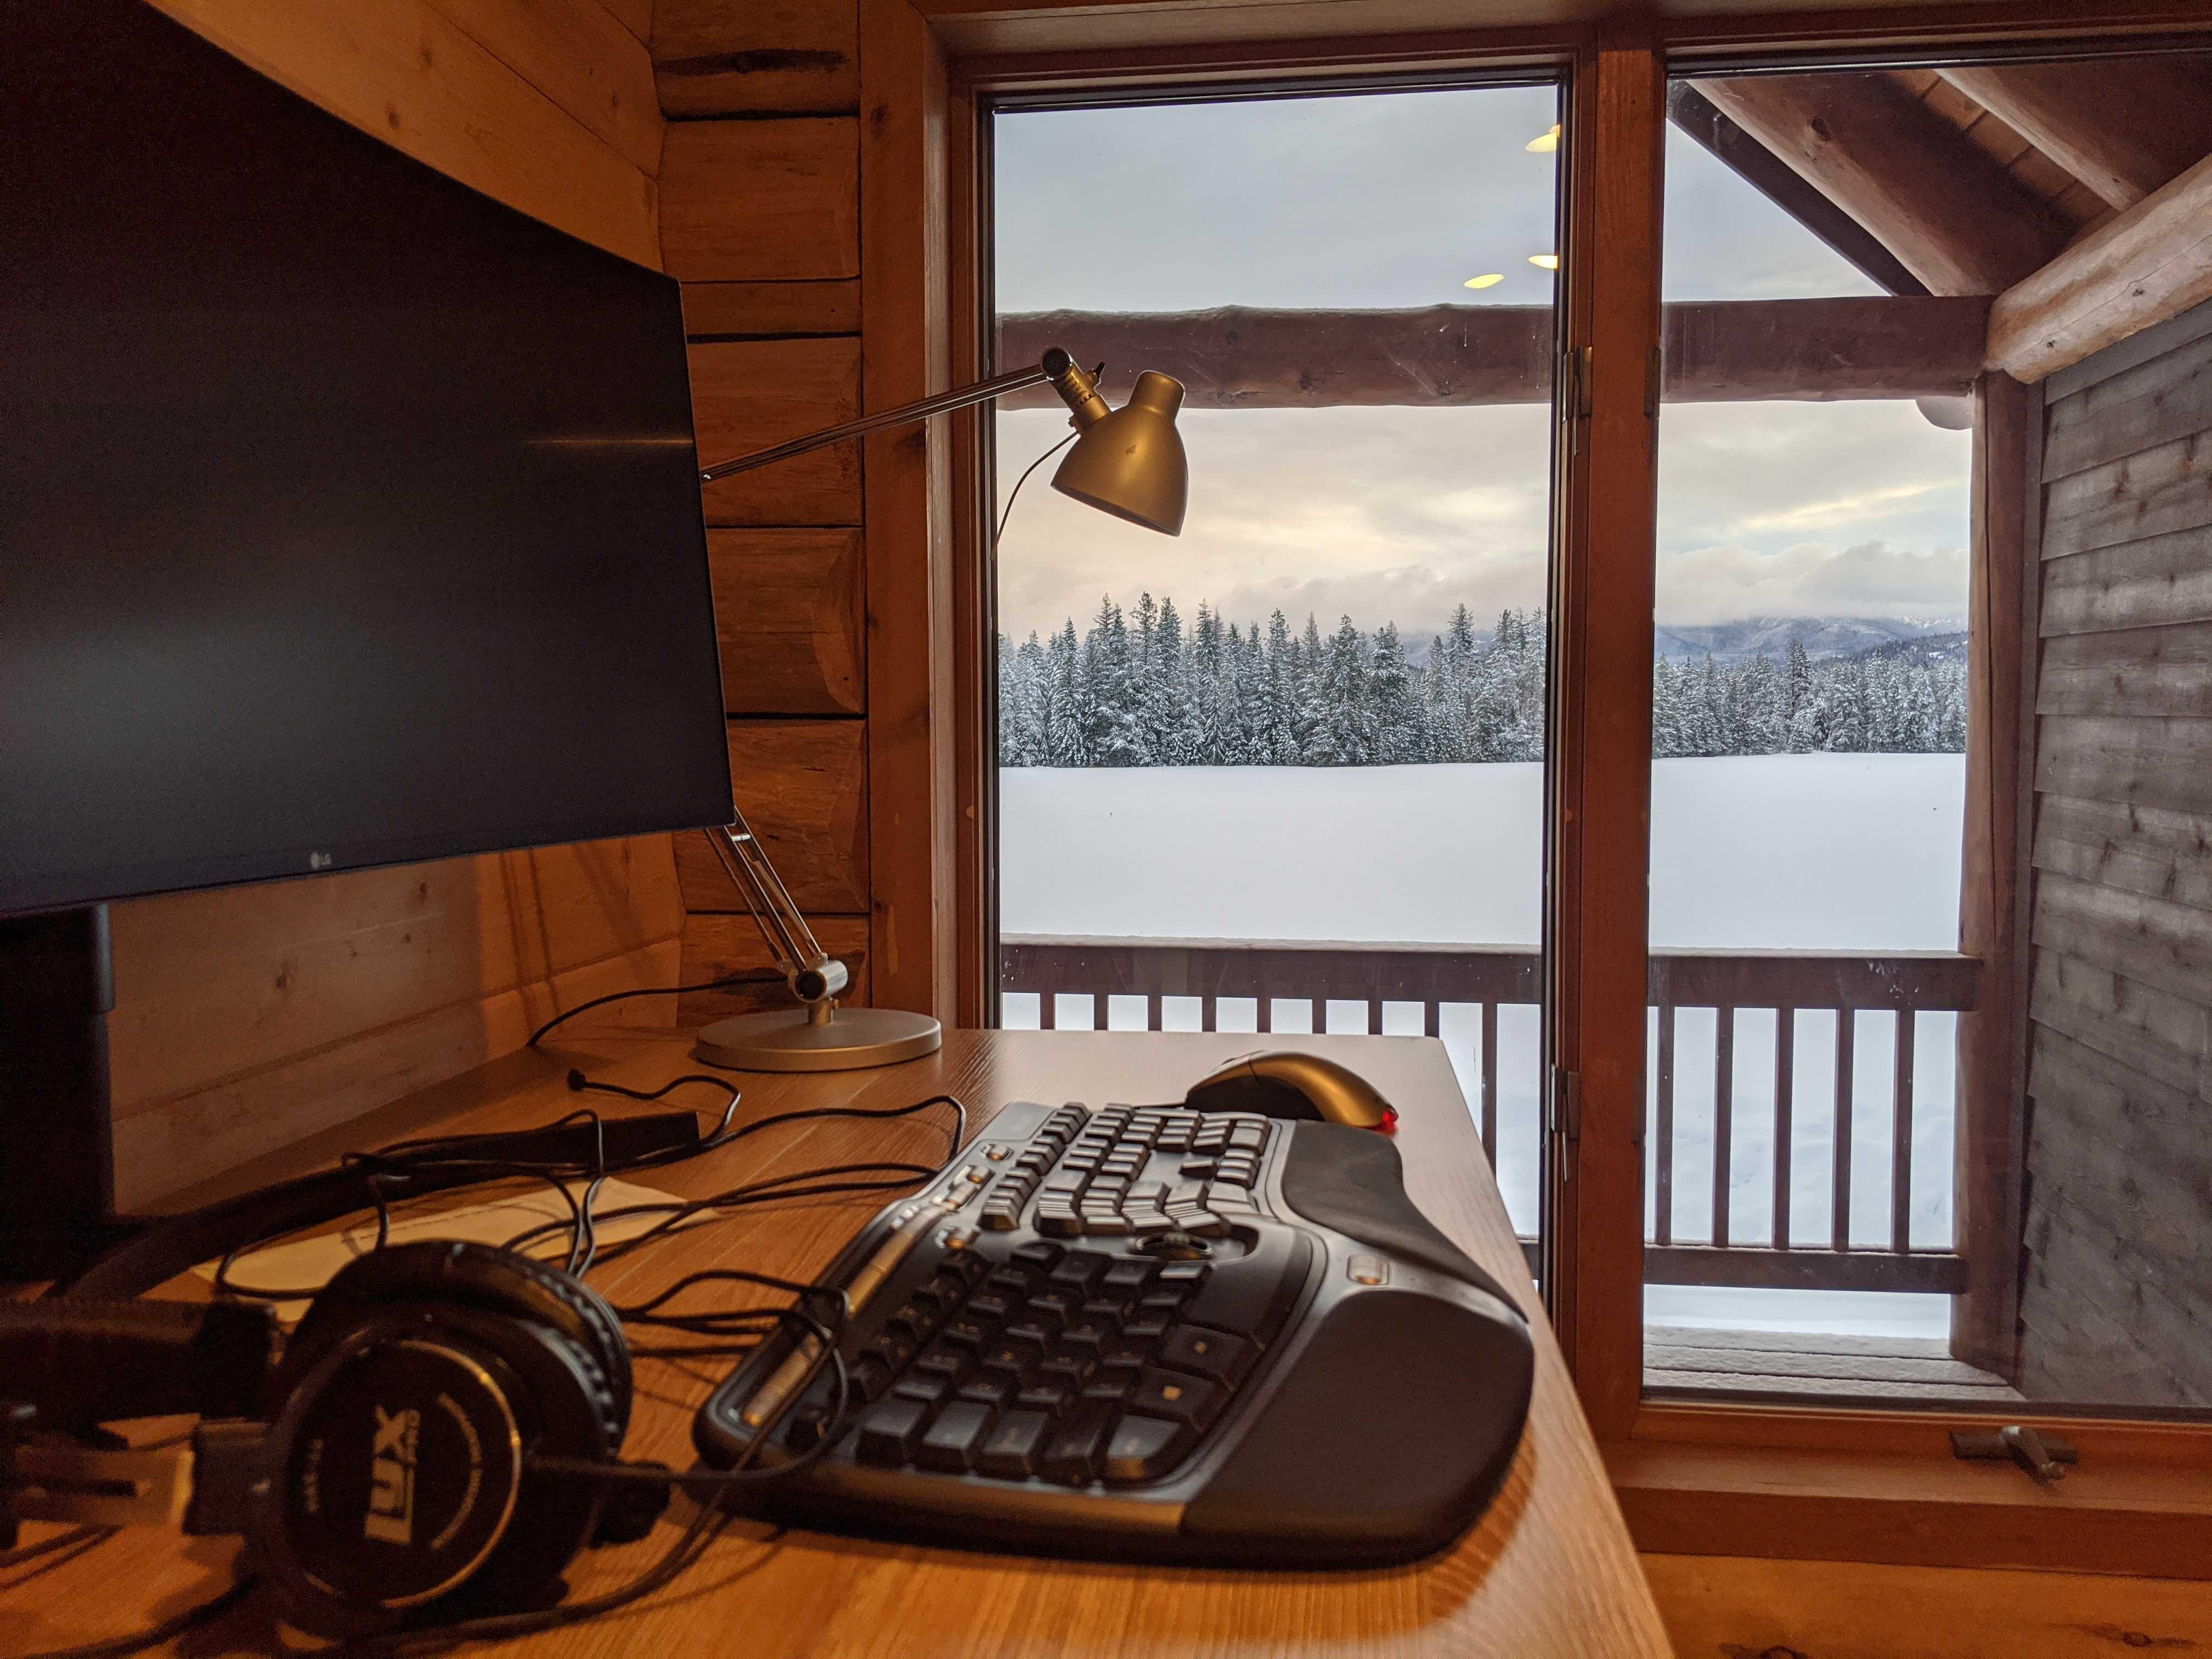Desk (Generic): (0, 990, 1710, 1636)
Headphones: (0, 1243, 718, 1595)
Keyboard (Ergonomic): (685, 1082, 1550, 1610)
Lamp (Desk): (611, 324, 1219, 1103)
Monitor (Landscape): (0, 7, 796, 880)
Mouse (Ergonomic): (1143, 1033, 1458, 1140)
